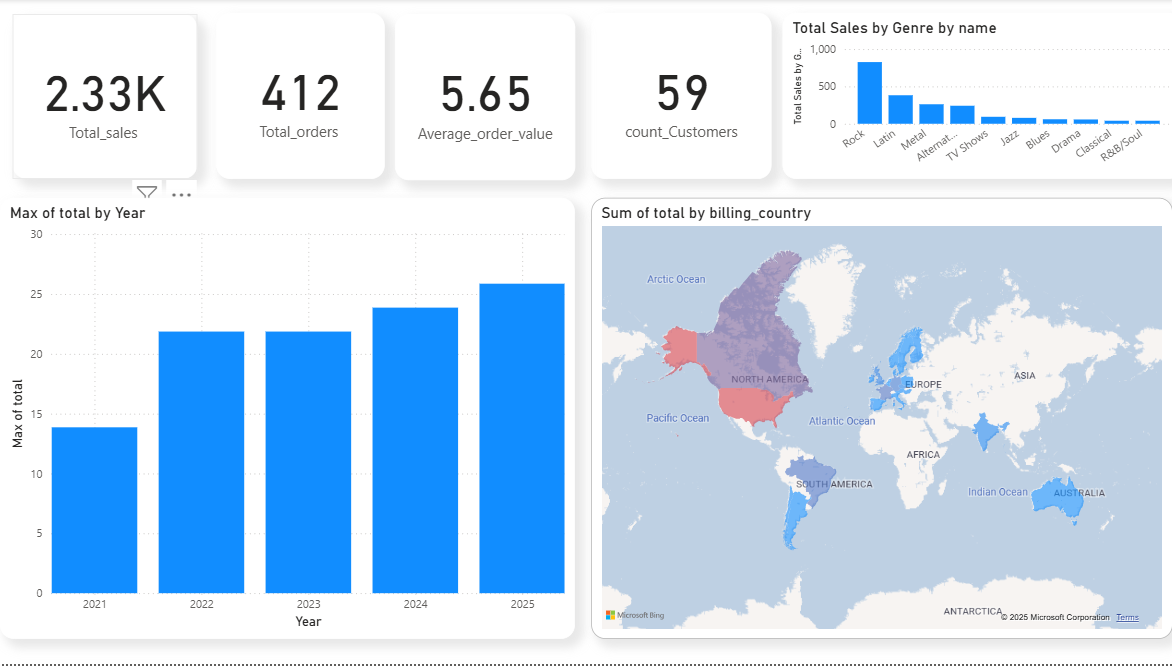

The page's visual inventory and layout, read from the dashboard file:
{"tool":"powerbi","page":{"name":"Overview","canvas":[1280,720],"ordinal":0},"visuals":[{"type":"card","fields":{"Values":["Sum(invoice.total)"]},"box":[13.5,16.2,200.3,178.6],"z":0},{"type":"card","fields":{"Values":["Count(invoice.invoice_id)"]},"box":[234.1,14.9,182.7,180],"z":1000},{"type":"card","fields":{"Values":["_measures.count_Customers"]},"box":[640.1,14.9,194.9,180],"z":2000},{"type":"card","fields":{"Values":["Avg(invoice.total)"]},"box":[427.7,16.2,194.9,180],"z":3000},{"type":"columnChart","fields":{"Category":["invoice.invoice_date.Variation.Date Hierarchy.Year","invoice.invoice_date.Variation.Date Hierarchy.Year1","invoice.invoice_date.Variation.Date Hierarchy.Quarter"],"Y":["Max(invoice.total)"]},"box":[0,215.2,622.5,477.7],"z":4000},{"type":"filledMap","fields":{"Category":["invoice.billing_country"]},"box":[640.1,215.2,629.3,477.7],"z":5000},{"type":"columnChart","fields":{"Category":["genre.name"],"Y":["_measures.Total Sales by Genre"]},"box":[847.2,14.9,433.1,180],"z":7000}]}

Visuals, with their boxes in screenshot pixels (x1, y1, x2, y2), scaled from the page's 1280x720 canvas onto the 1172x670 screenshot:
card - Sum(invoice.total): 12, 15, 196, 181
card - Count(invoice.invoice_id): 214, 14, 382, 181
card - _measures.count_Customers: 586, 14, 765, 181
card - Avg(invoice.total): 392, 15, 570, 183
columnChart - invoice.invoice_date.Variation.Date Hierarchy.Year x invoice.invoice_date.Variation.Date Hierarchy.Year1: 0, 200, 570, 645
filledMap - invoice.billing_country: 586, 200, 1162, 645
columnChart - genre.name x _measures.Total Sales by Genre: 776, 14, 1171, 181
